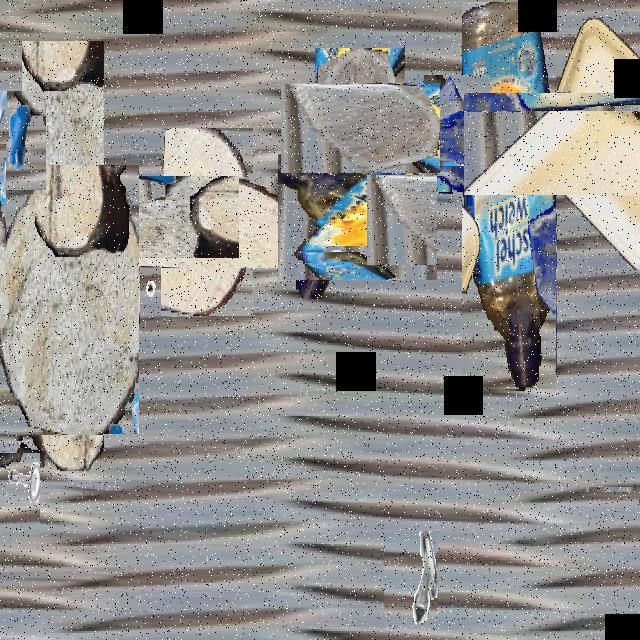glass: (298, 66, 422, 190), (411, 88, 503, 179), (0, 144, 6, 293)
metal: (485, 174, 545, 281), (384, 532, 438, 628), (0, 91, 46, 190), (0, 453, 40, 535), (386, 178, 426, 249), (142, 278, 182, 348), (610, 461, 640, 516)
plastic: (0, 108, 171, 325), (462, 2, 556, 389), (500, 55, 640, 232), (286, 146, 428, 288)
wood: (0, 166, 139, 436), (137, 152, 277, 292), (10, 343, 104, 471)
